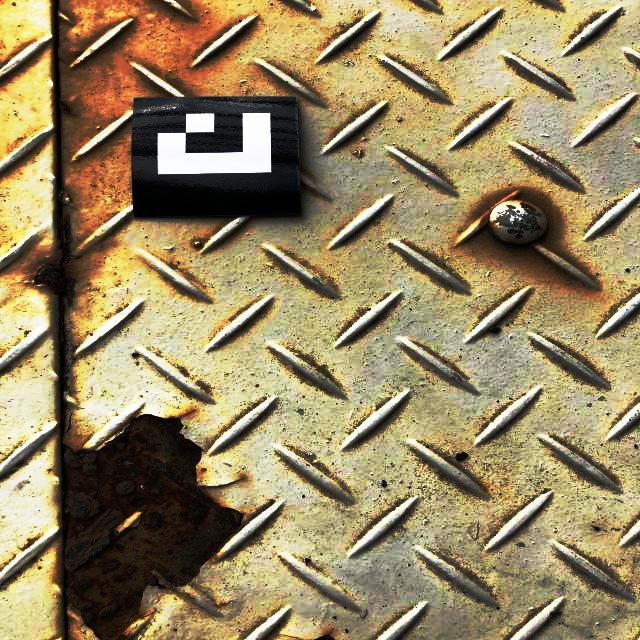Corrosion: (62, 416, 242, 640), (31, 216, 79, 311), (56, 98, 78, 117)
